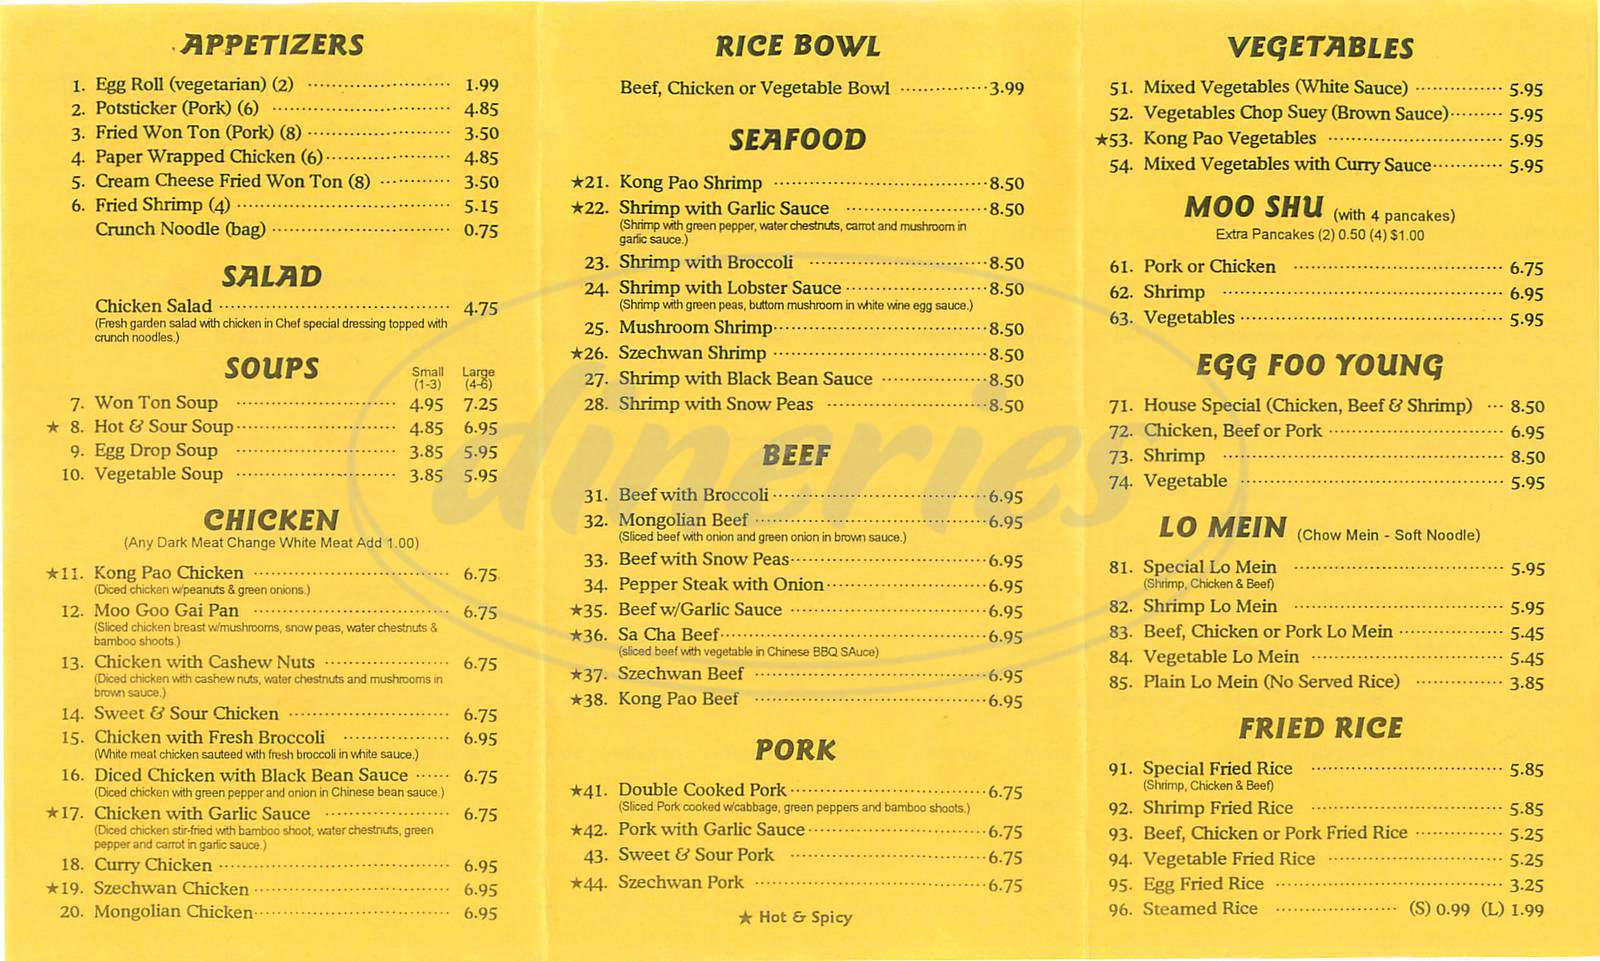descricao: (89, 619, 448, 650), (90, 317, 456, 346), (91, 823, 439, 852), (89, 671, 449, 699), (616, 799, 976, 819), (91, 784, 446, 801), (617, 529, 910, 548), (90, 746, 425, 762), (613, 643, 885, 663), (89, 582, 317, 599), (1143, 577, 1277, 594), (1141, 778, 1277, 793), (1406, 898, 1434, 926), (1478, 897, 1509, 922), (1317, 225, 1337, 247), (1368, 226, 1387, 245)
item: (83, 293, 506, 349), (613, 195, 1032, 249), (89, 651, 506, 700), (91, 803, 504, 852), (88, 602, 506, 650), (611, 620, 1033, 664), (613, 508, 1030, 548), (1141, 553, 1555, 593), (615, 277, 1032, 315), (89, 560, 505, 599), (90, 726, 505, 764), (614, 71, 1037, 109), (617, 780, 1025, 819), (91, 764, 504, 801), (1141, 756, 1549, 792), (614, 570, 1035, 600), (91, 390, 512, 419), (616, 844, 1032, 873), (1139, 101, 1552, 129), (1141, 125, 1552, 153), (614, 365, 1030, 392), (1141, 418, 1553, 446), (618, 393, 1029, 421), (1142, 254, 1552, 281), (91, 191, 501, 218), (94, 71, 502, 98), (1143, 671, 1551, 698), (613, 547, 1034, 574), (1141, 153, 1551, 179), (93, 438, 502, 464), (613, 871, 1035, 896), (613, 819, 1031, 844), (91, 218, 506, 243), (94, 119, 505, 144), (618, 688, 1027, 713), (1141, 307, 1550, 333), (1142, 620, 1550, 646), (1141, 77, 1547, 102), (613, 664, 1037, 688), (614, 342, 1037, 366), (616, 600, 1039, 624), (1139, 875, 1560, 899), (1141, 393, 1557, 417), (91, 876, 506, 900), (1138, 282, 1553, 306), (93, 145, 506, 169), (616, 317, 1030, 341), (616, 483, 1029, 507), (1137, 847, 1550, 871), (1141, 445, 1553, 469), (1142, 469, 1554, 492), (1141, 644, 1549, 668), (613, 253, 1033, 275), (1135, 900, 1553, 923), (90, 903, 506, 926), (90, 854, 501, 876), (1143, 824, 1547, 847), (91, 171, 506, 193), (90, 703, 504, 724), (1139, 799, 1551, 820), (93, 97, 503, 119), (1141, 596, 1549, 618), (89, 465, 506, 486), (618, 171, 1031, 192), (94, 418, 506, 437), (1213, 224, 1429, 245)
preco: (459, 561, 504, 588), (462, 194, 507, 221), (408, 463, 454, 489), (1509, 756, 1549, 784), (459, 601, 502, 626), (462, 146, 506, 169), (459, 766, 504, 788), (461, 121, 507, 143), (1509, 285, 1551, 309), (1510, 598, 1550, 623), (1509, 397, 1557, 417), (1509, 875, 1553, 897), (459, 393, 502, 416), (987, 782, 1030, 804), (462, 802, 504, 825), (1506, 852, 1555, 872), (463, 652, 501, 678), (462, 170, 505, 192), (461, 221, 506, 241), (459, 856, 501, 879), (405, 439, 447, 461), (987, 320, 1030, 342), (1507, 825, 1552, 846), (989, 173, 1029, 195), (989, 253, 1029, 275), (1507, 798, 1547, 820), (1509, 128, 1546, 152), (406, 417, 449, 438), (1509, 560, 1552, 580), (1509, 446, 1547, 469), (986, 576, 1029, 596), (987, 875, 1030, 896), (989, 77, 1029, 98), (1507, 157, 1547, 178), (461, 727, 501, 748), (987, 627, 1029, 648), (1506, 104, 1547, 125), (463, 73, 502, 95), (461, 299, 504, 319), (405, 394, 448, 414), (1507, 624, 1550, 643), (1434, 900, 1477, 920), (989, 343, 1026, 365), (989, 551, 1026, 572), (1509, 309, 1546, 330), (459, 101, 506, 118), (461, 442, 502, 462), (986, 395, 1027, 415), (986, 691, 1025, 712), (987, 822, 1029, 841), (987, 848, 1026, 868), (1507, 257, 1549, 277), (1509, 900, 1550, 920), (989, 280, 1025, 302), (1509, 79, 1545, 101), (459, 880, 503, 898), (461, 467, 501, 487), (461, 705, 501, 724), (1389, 225, 1429, 245), (989, 201, 1027, 221), (989, 513, 1027, 532), (987, 603, 1026, 623), (462, 904, 501, 923), (989, 486, 1025, 506), (1509, 474, 1550, 492), (1510, 650, 1547, 670), (1507, 675, 1550, 692), (987, 666, 1026, 684), (1509, 423, 1547, 441), (987, 373, 1029, 390), (462, 421, 501, 435), (1337, 225, 1368, 243)
produto: (618, 74, 893, 105), (1142, 394, 1475, 418), (1142, 154, 1435, 177), (93, 764, 411, 785), (1141, 77, 1413, 101), (1141, 820, 1411, 844), (1141, 103, 1449, 123), (1141, 670, 1407, 692), (91, 145, 331, 170), (95, 170, 376, 191), (1141, 620, 1397, 642), (617, 368, 875, 389), (93, 727, 335, 748), (91, 71, 297, 96), (93, 120, 307, 143), (1141, 419, 1325, 445), (91, 700, 283, 724), (618, 392, 819, 415), (617, 197, 835, 217), (91, 652, 319, 672), (619, 278, 846, 297), (93, 802, 315, 822), (618, 574, 826, 594), (618, 250, 798, 273), (1138, 848, 1327, 870), (91, 900, 255, 924), (616, 341, 771, 366), (1144, 128, 1322, 150), (93, 98, 269, 120), (617, 819, 808, 839), (618, 844, 778, 867), (618, 599, 786, 620), (1141, 756, 1297, 779), (93, 193, 233, 218), (87, 221, 267, 240), (90, 560, 250, 582), (91, 878, 251, 899), (1141, 799, 1301, 820), (91, 389, 224, 414), (617, 171, 768, 193), (615, 318, 773, 338), (1142, 254, 1282, 277), (616, 548, 790, 567), (1141, 648, 1304, 667), (1139, 872, 1271, 896), (617, 780, 789, 799), (1141, 594, 1285, 616), (619, 687, 743, 712), (93, 440, 224, 463), (618, 484, 773, 504), (90, 601, 243, 620), (94, 416, 235, 437), (91, 464, 229, 484), (615, 664, 749, 684), (1141, 900, 1262, 922), (1139, 556, 1282, 575), (617, 510, 751, 529), (615, 873, 747, 892), (91, 295, 216, 314), (90, 855, 215, 874), (614, 624, 725, 644), (1141, 309, 1239, 331), (1141, 470, 1237, 492), (1214, 225, 1317, 245), (1138, 443, 1215, 469), (1139, 282, 1210, 304)
